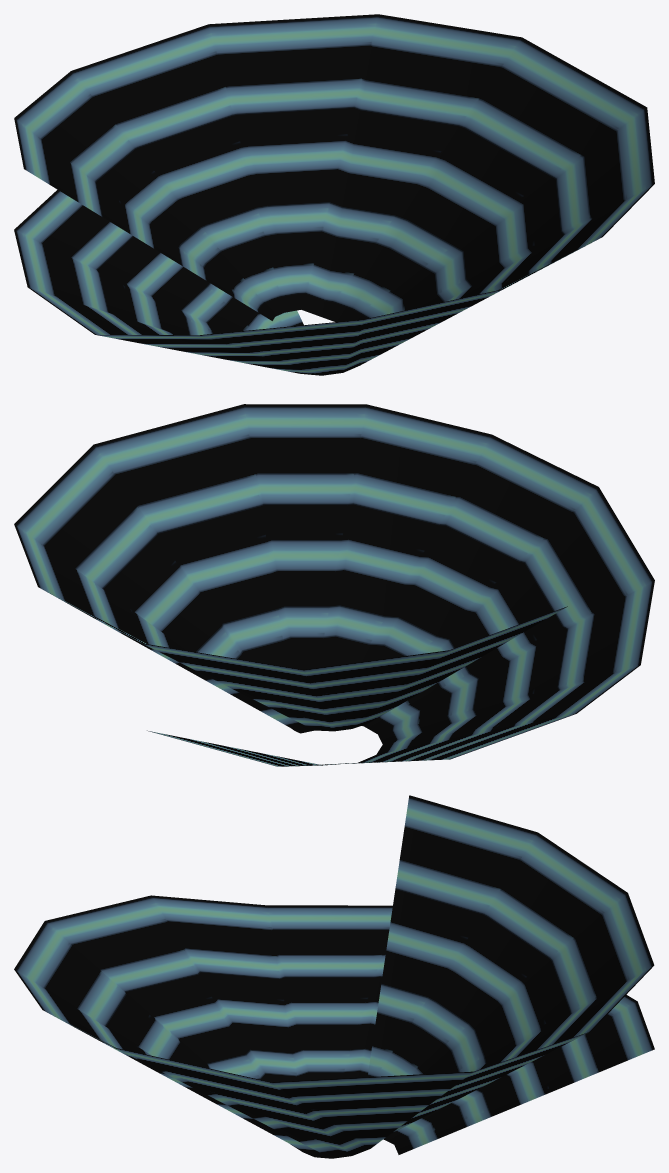
The model's file is stun.fbx.
The picture shows the model from 3 angles, top to bottom: view 1: azimuth 30°, elevation 25°; view 2: azimuth 150°, elevation 25°; view 3: azimuth 270°, elevation 25°; orthographic projection.
Parts seen in each view (by area): view 1: Цилиндр.002; view 2: Цилиндр.002; view 3: Цилиндр.002.
Boxes of the visible parts, x1=… form: Цилиндр.002: x1=14, y1=14, x2=654, y2=375; Цилиндр.002: x1=14, y1=404, x2=654, y2=766; Цилиндр.002: x1=14, y1=795, x2=654, y2=1158.
Bounding box in the file's own units: 196 × 199 × 77.75.
1 material, 1 textured.
